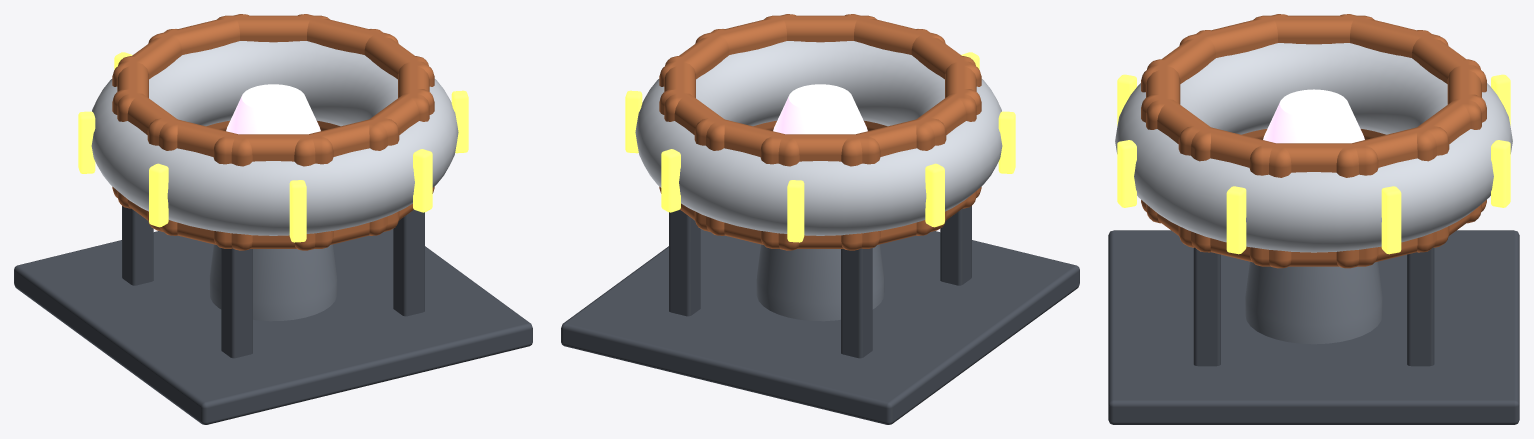
The model's file is Fusion.fbx.
3 views of the same model, side by side, from view 1: azimuth 30°, elevation 25°; view 2: azimuth 150°, elevation 25°; view 3: azimuth 270°, elevation 25° (orthographic). The views are drawn at different scales.
Parts seen in each view (by area): view 1: Body__MetalDark, Body__Chrome, Torus__Copper, Body__Steel, Torus__NeonOrange, Plasma__NeonPurple; view 2: Body__MetalDark, Body__Chrome, Torus__Copper, Body__Steel, Torus__NeonOrange, Plasma__NeonPurple; view 3: Body__MetalDark, Body__Chrome, Torus__Copper, Body__Steel, Torus__NeonOrange, Plasma__NeonPurple.
Part boxes in pixels (bbox=[...]): Body__MetalDark: bbox=[14, 206, 532, 424]; Body__Chrome: bbox=[91, 41, 458, 235]; Torus__Copper: bbox=[112, 14, 434, 250]; Body__Steel: bbox=[209, 244, 337, 321]; Torus__NeonOrange: bbox=[78, 52, 468, 242]; Plasma__NeonPurple: bbox=[226, 84, 320, 134]; Body__MetalDark: bbox=[561, 206, 1079, 424]; Body__Chrome: bbox=[635, 41, 1002, 235]; Torus__Copper: bbox=[659, 14, 981, 250]; Body__Steel: bbox=[756, 244, 884, 321]; Torus__NeonOrange: bbox=[625, 52, 1015, 242]; Plasma__NeonPurple: bbox=[773, 84, 867, 134]; Body__MetalDark: bbox=[1108, 230, 1519, 424]; Body__Chrome: bbox=[1115, 43, 1512, 252]; Torus__Copper: bbox=[1141, 14, 1486, 268]; Body__Steel: bbox=[1245, 261, 1382, 344]; Torus__NeonOrange: bbox=[1117, 74, 1510, 254]; Plasma__NeonPurple: bbox=[1263, 89, 1364, 143].
Bounding box in the file's own units: 6 × 4.65 × 6.
